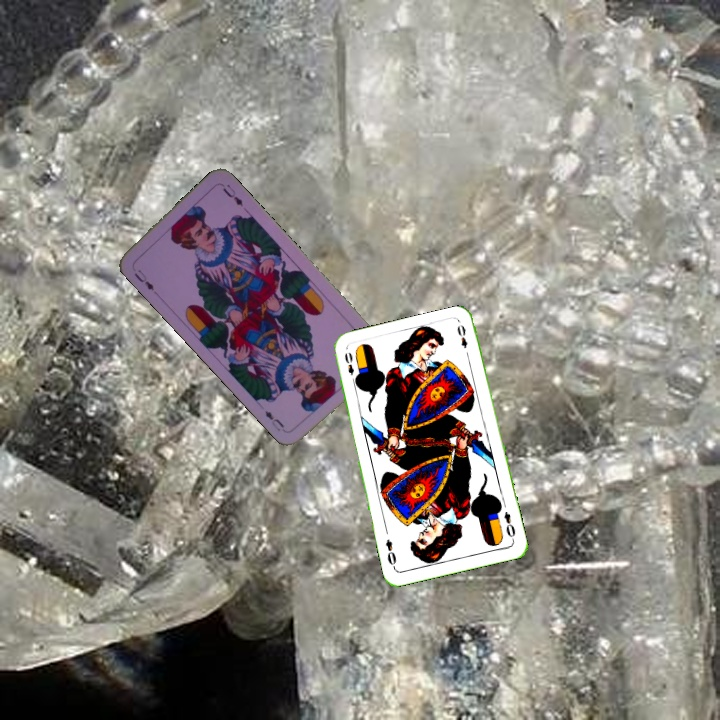EO: (340, 348, 360, 387), (500, 507, 518, 543)
EU: (130, 266, 157, 293)
